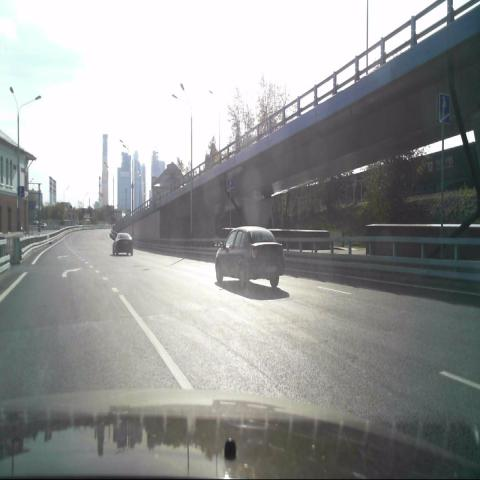6_6: (438, 89, 450, 123), (226, 176, 234, 192)
